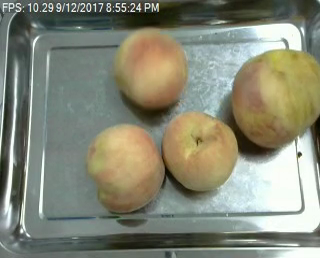Peach: (231, 47, 319, 148), (86, 122, 165, 213), (162, 109, 240, 191), (113, 28, 188, 109)
